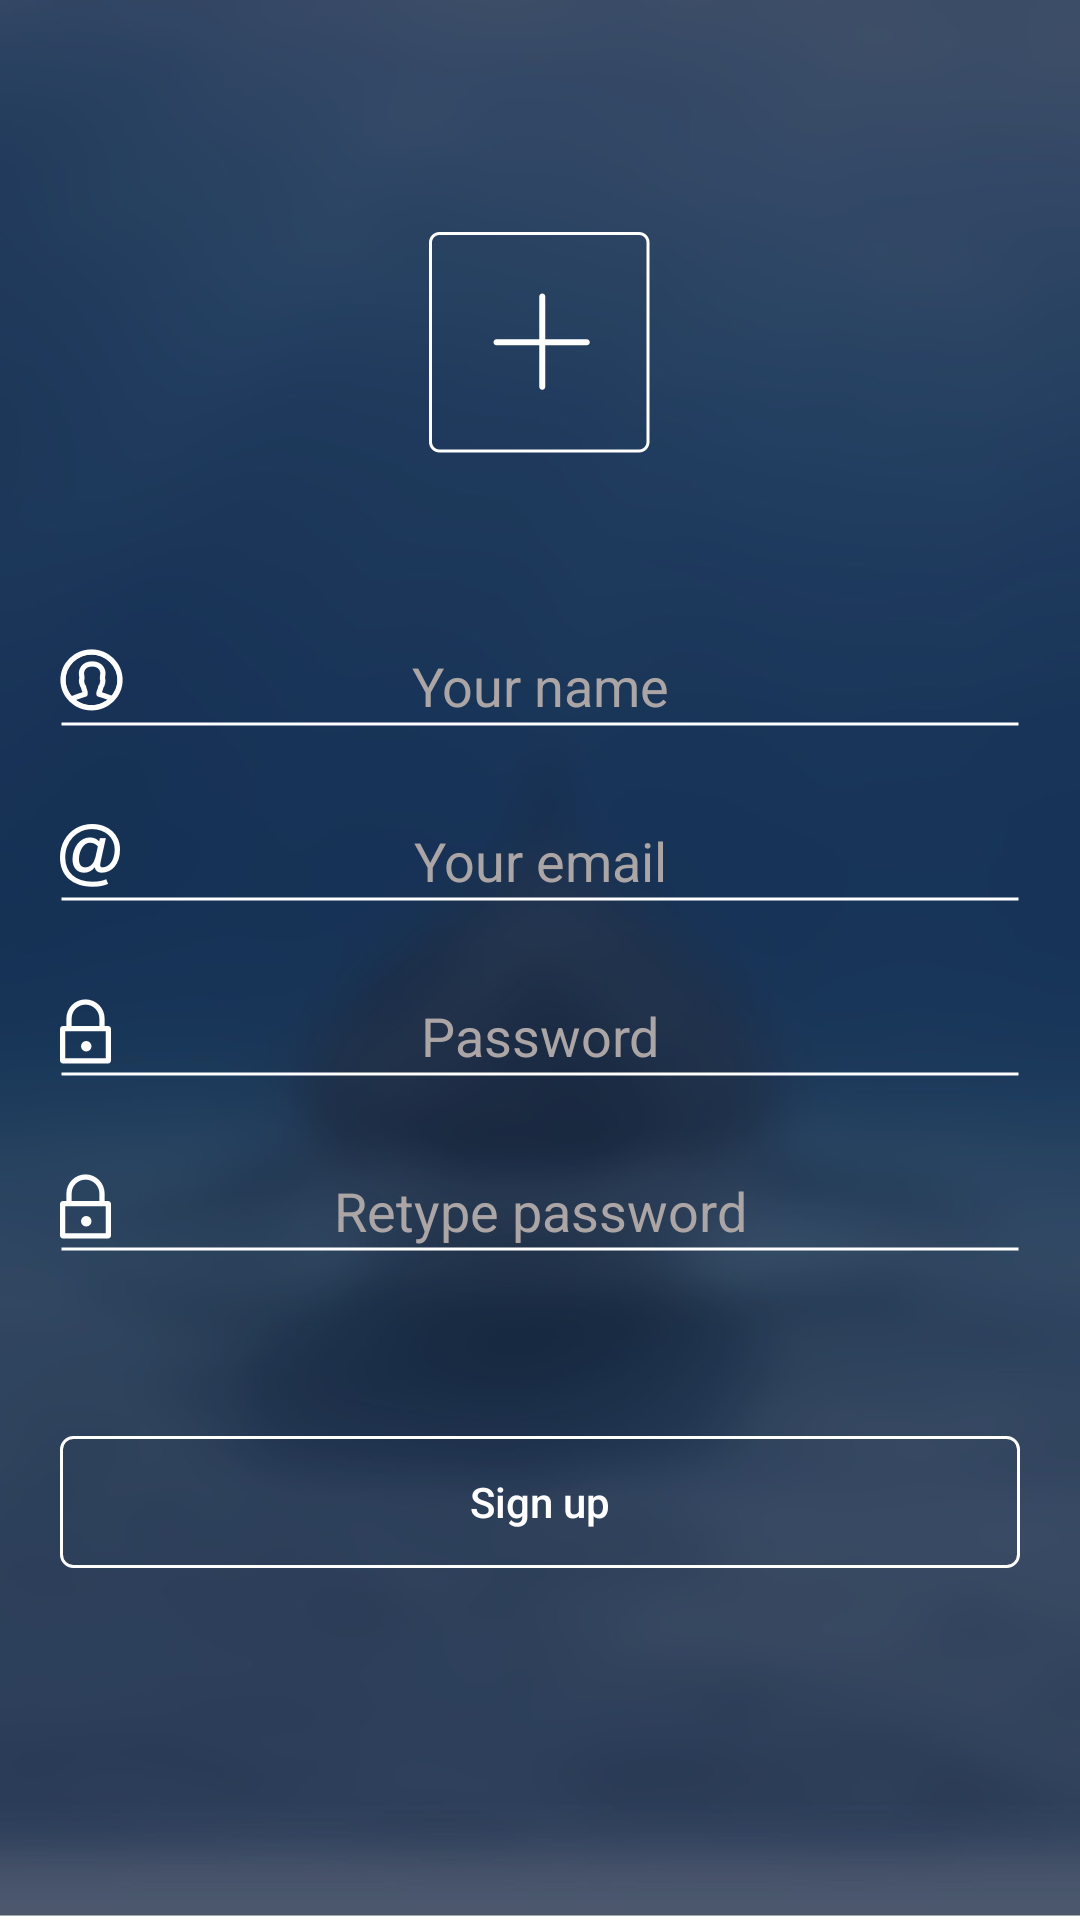

Named icons in this screenshot (1080×1920) and their centers, [x,y]:
lock: [85,1031], [85,1206]
user: [91,680]
